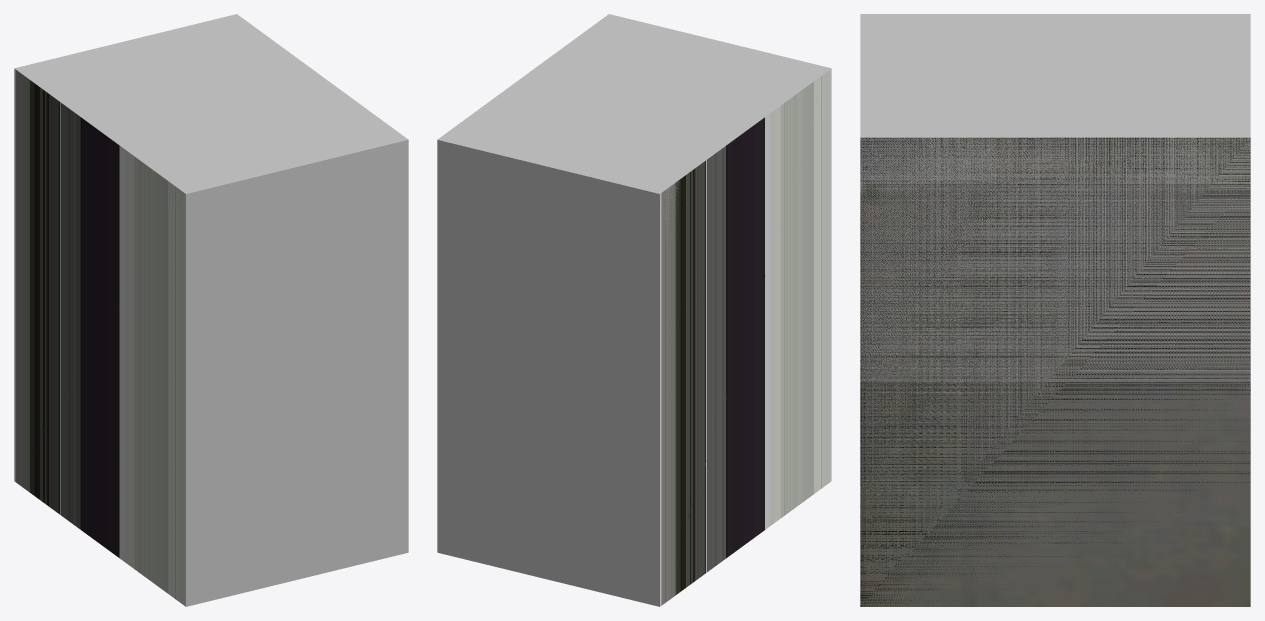
Rendered from counter_top_02.DAE.
3 views of the same model, side by side, from view 1: azimuth 30°, elevation 25°; view 2: azimuth 150°, elevation 25°; view 3: azimuth 270°, elevation 25° (orthographic). The views are drawn at different scales.
Visible parts, largest first — view 1: bounds, colbox-1; view 2: bounds, colbox-1; view 3: counter_top_two100, bounds, colbox-1.
Boxes of the visible parts, <box> form: bounds: <box>14,14,408,606</box>; colbox-1: <box>14,68,185,606</box>; bounds: <box>437,14,831,606</box>; colbox-1: <box>660,68,831,606</box>; counter_top_two100: <box>860,137,1250,606</box>; bounds: <box>860,14,1250,517</box>; colbox-1: <box>860,137,1250,606</box>.
Size of the model in its own units: 66.19 by 88.44 by 117.
